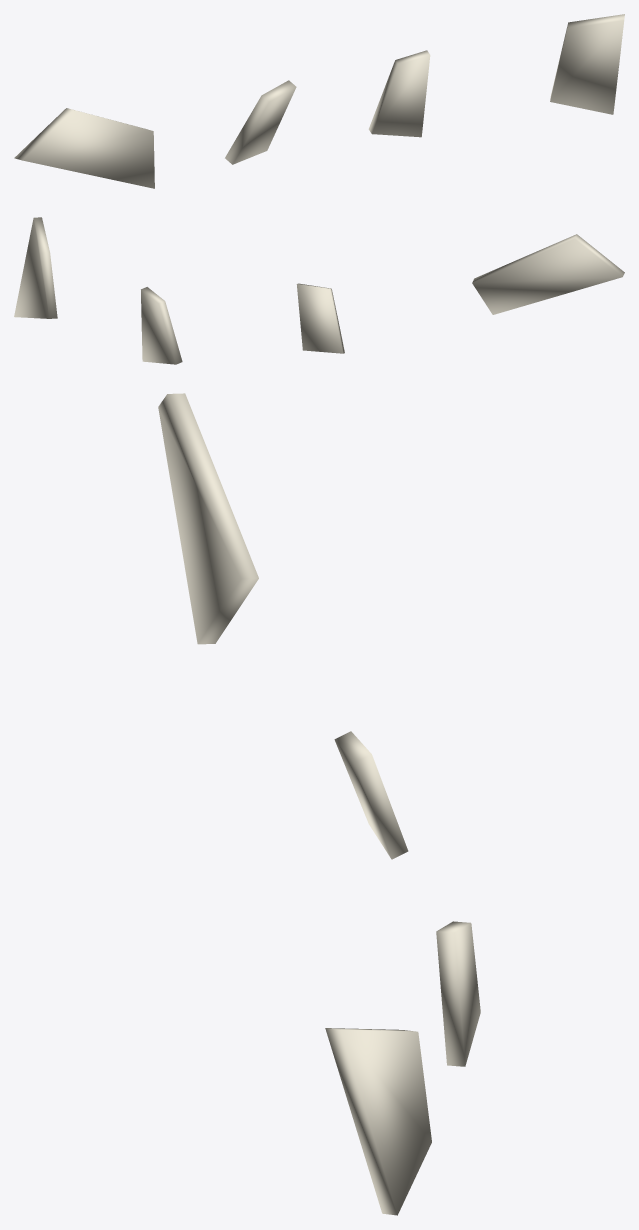
The picture shows the model from 3 angles, top to bottom: view 1: azimuth 30°, elevation 25°; view 2: azimuth 150°, elevation 25°; view 3: azimuth 270°, elevation 25°; orthographic projection. The views are drawn at different scales.
Parts seen in each view (by area): view 1: ZA_85429825c5d8e21e; view 2: ZA_85429825c5d8e21e; view 3: ZA_85429825c5d8e21e.
Part boxes in pixels (x1,y1,x2,y2): ZA_85429825c5d8e21e: (14, 14, 624, 188); ZA_85429825c5d8e21e: (14, 217, 624, 364); ZA_85429825c5d8e21e: (158, 393, 480, 1215).
Size of the model in its own units: 0.034 by 0.0097 by 0.00857.
